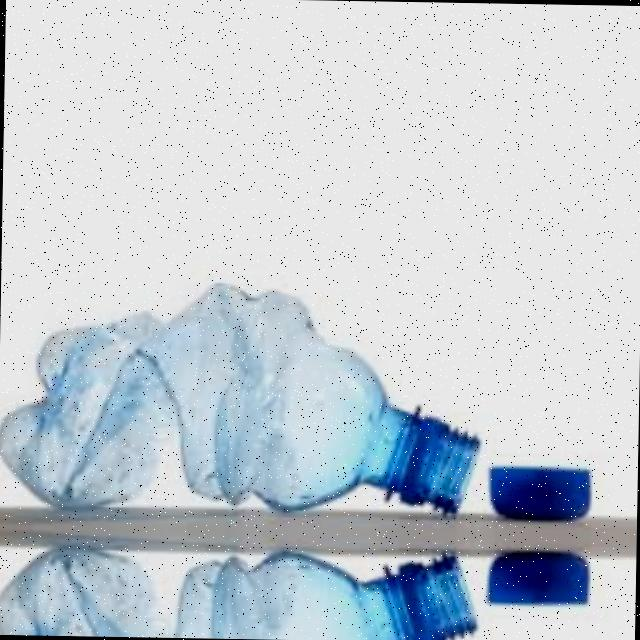Plastic: (0, 244, 610, 537), (0, 525, 605, 640)
